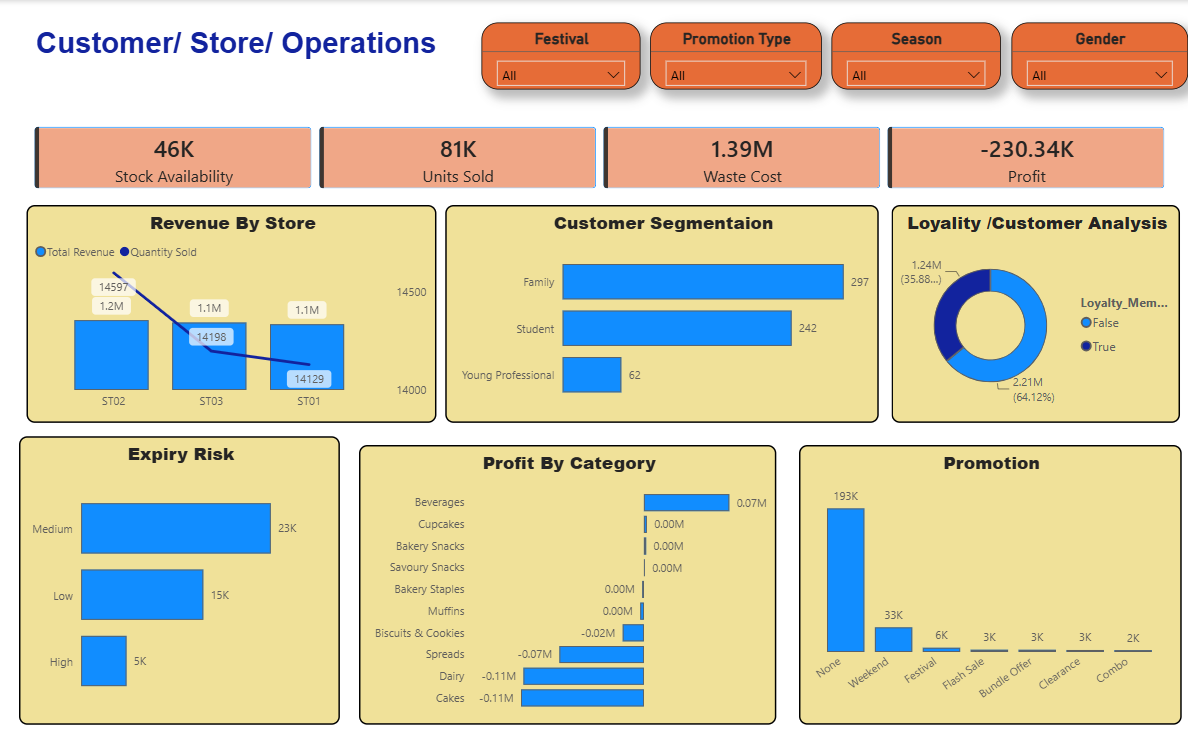

The dashboard page shown, as its layout file describes it:
{"tool":"powerbi","page":{"name":"Custormer/ Store/ Operations ","canvas":[1300,800],"ordinal":2},"visuals":[{"type":"textbox","box":[22.3,25.1,472.5,54.4],"z":1000},{"type":"lineStackedColumnComboChart","title":" Revenue By Store ","fields":{"Category":["bakery_sales.Store_ID"],"Y":["Core KPI Measures.Total Revenue"],"Y2":["Advanced Measures.Quantity Sold"]},"box":[29.9,222.8,445.7,236.4],"z":1001},{"type":"barChart","title":"Customer Segmentaion ","fields":{"Category":["bakery_sales.Customer_Segment"],"Y":["Advanced Measures.Quantity Sold"]},"box":[485.1,222.8,471.5,236.4],"z":1002},{"type":"donutChart","title":"Loyality /Customer Analysis","fields":{"Y":["Core KPI Measures.Total Revenue"],"Series":["bakery_sales.Loyalty_Member"]},"box":[970.1,222.8,313.9,236.4],"z":1003},{"type":"barChart","title":"Expiry Risk","fields":{"Category":["bakery_sales.Expiry_Risk"],"Y":["Advanced Measures.Quantity Sold"]},"box":[21.7,474.2,349.2,313.9],"z":1004},{"type":"lineStackedColumnComboChart","title":"Promotion","fields":{"Y":["Sum(bakery_sales.Recommended_Discount)"],"Category":["bakery_sales.Promotion_Type"]},"box":[869.6,483.7,415.8,304.3],"z":1005},{"type":"cardVisual","fields":{"Data":["Sum(bakery_sales.Stock_Available)","Sum(bakery_sales.Units_Sold)","Sum(bakery_sales.Waste_Cost)","Sum(bakery_sales.Profit)"]},"box":[22.3,121.2,1262.7,101.7],"z":1006},{"type":"slicer","title":"Festival","fields":{"Values":["bakery_sales.Festival"]},"box":[524,25.1,172.8,72.5],"z":1007},{"type":"slicer","title":"Promotion Type","fields":{"Values":["bakery_sales.Promotion_Type"]},"box":[708,25.1,186.8,72.5],"z":1008},{"type":"slicer","title":"Season","fields":{"Values":["bakery_sales.Season"]},"box":[904.5,25.1,184,72.5],"z":1009},{"type":"slicer","title":"Gender","fields":{"Values":["bakery_sales.Customer_Gender"]},"box":[1101,25.1,192.3,72.5],"z":1010},{"type":"barChart","title":"Profit By Category","fields":{"Category":["bakery_sales.Category"],"Y":["Core KPI Measures.Total Profit"]},"box":[391.3,483.7,453.8,304.3],"z":1011}]}

Visuals, with their boxes in screenshot pixels (x1, y1, x2, y2), scaled from the page's 1300x800 canvas onto the 1188x733 screenshot:
textbox: region(20, 23, 452, 73)
" Revenue By Store " lineStackedColumnComboChart: region(27, 204, 435, 421)
"Customer Segmentaion " barChart: region(443, 204, 874, 421)
"Loyality /Customer Analysis" donutChart: region(887, 204, 1173, 421)
"Expiry Risk" barChart: region(20, 434, 339, 722)
"Promotion" lineStackedColumnComboChart: region(795, 443, 1175, 722)
cardVisual - Sum(bakery_sales.Stock_Available) x Sum(bakery_sales.Units_Sold): region(20, 111, 1174, 204)
"Festival" slicer: region(479, 23, 637, 89)
"Promotion Type" slicer: region(647, 23, 818, 89)
"Season" slicer: region(827, 23, 995, 89)
"Gender" slicer: region(1006, 23, 1182, 89)
"Profit By Category" barChart: region(358, 443, 772, 722)
